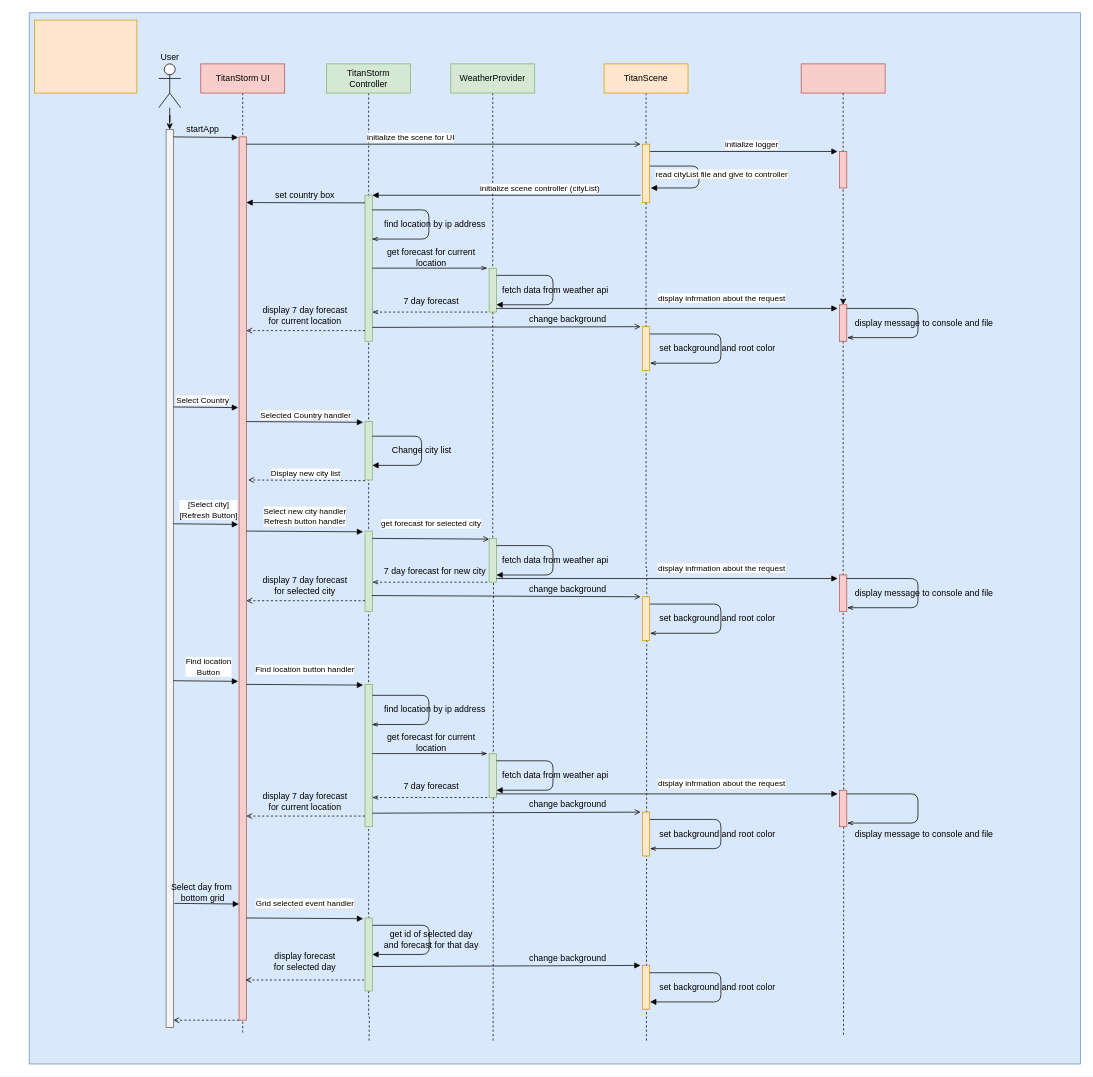
This 1093x1077 diagram has some shape labels left out. The centre of each missing label's shape, as x and y in pixels:
"TitanLogger" goes at point (842, 78).
"TitanStorm Sequence Diagram" goes at point (85, 56).
